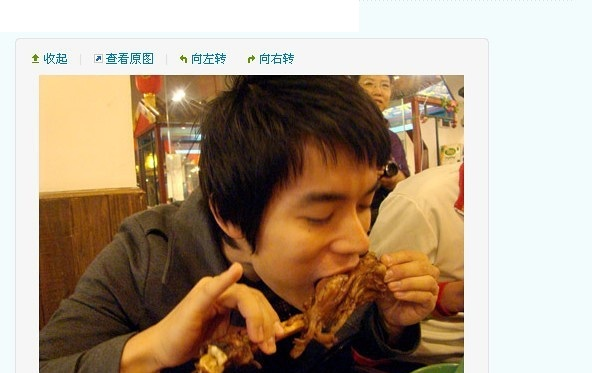face: (260, 150, 383, 314), (359, 74, 390, 113)
